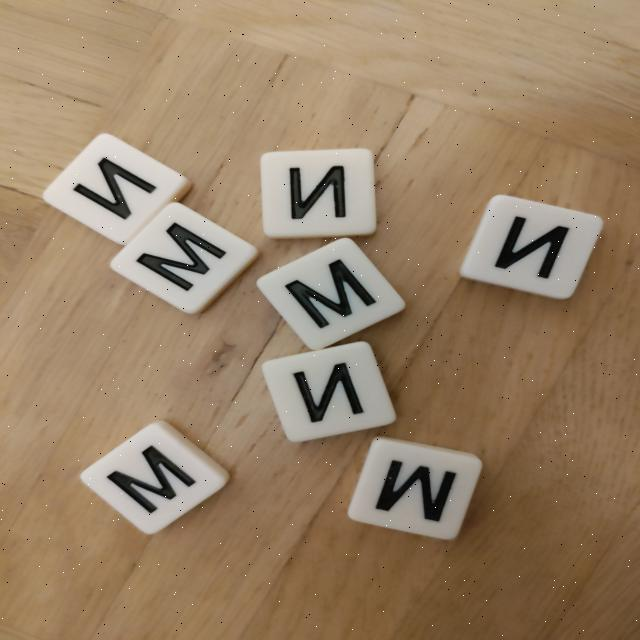m: (75, 418, 236, 539), (252, 235, 409, 353), (107, 200, 262, 318), (345, 436, 486, 543)
n: (39, 130, 196, 248), (455, 192, 607, 302), (260, 340, 400, 444), (259, 149, 377, 240)
